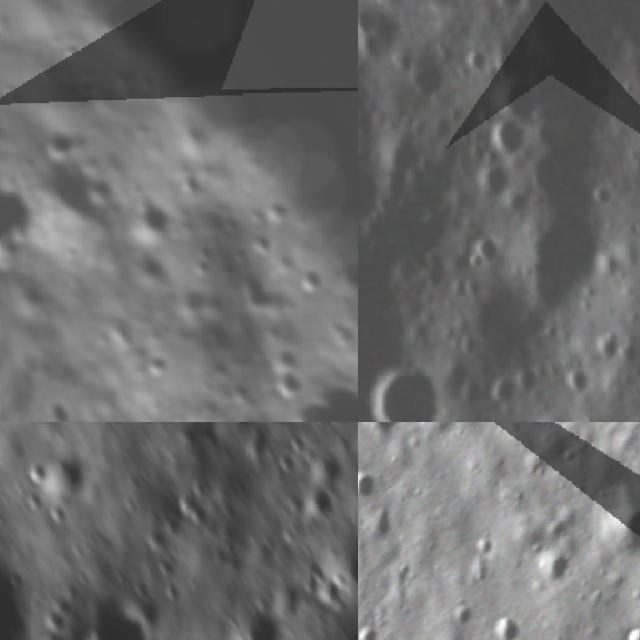crater: (509, 191, 629, 323), (23, 136, 137, 252), (359, 351, 461, 422), (456, 282, 540, 368), (0, 166, 58, 280), (258, 356, 358, 422), (65, 596, 161, 640), (119, 192, 184, 256), (28, 444, 98, 502), (227, 260, 287, 326), (243, 182, 306, 242), (596, 485, 640, 562), (479, 112, 540, 166), (404, 54, 461, 106), (123, 243, 174, 296), (235, 593, 292, 640), (34, 120, 86, 170), (471, 157, 519, 206), (77, 169, 125, 217), (358, 166, 394, 229), (283, 260, 331, 306), (132, 347, 180, 392), (532, 548, 578, 591), (300, 484, 340, 530), (589, 327, 630, 369), (175, 488, 218, 528), (487, 372, 527, 412), (174, 165, 212, 205), (335, 538, 358, 601), (52, 34, 88, 72), (462, 43, 497, 79), (586, 178, 622, 213), (564, 368, 598, 402), (241, 226, 273, 262), (358, 422, 407, 445), (514, 362, 545, 398), (0, 100, 15, 174), (614, 334, 640, 374), (468, 530, 496, 564), (50, 390, 79, 422), (358, 466, 382, 503), (463, 247, 491, 278), (495, 0, 542, 18), (492, 613, 521, 640), (450, 603, 478, 629), (278, 451, 300, 476), (291, 434, 309, 458), (358, 624, 382, 640), (624, 620, 640, 640), (0, 269, 9, 301), (63, 414, 88, 422)
